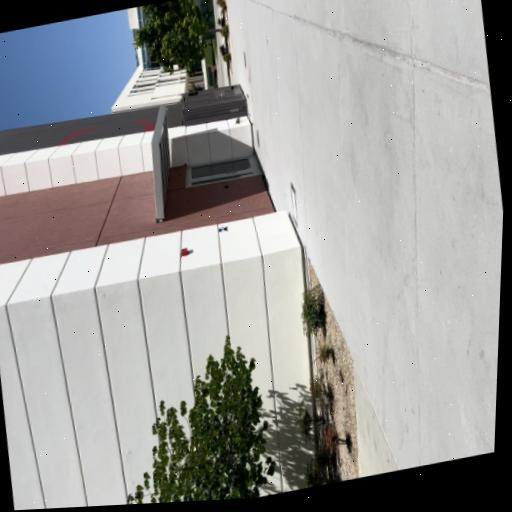target9: (218, 225, 228, 233)
